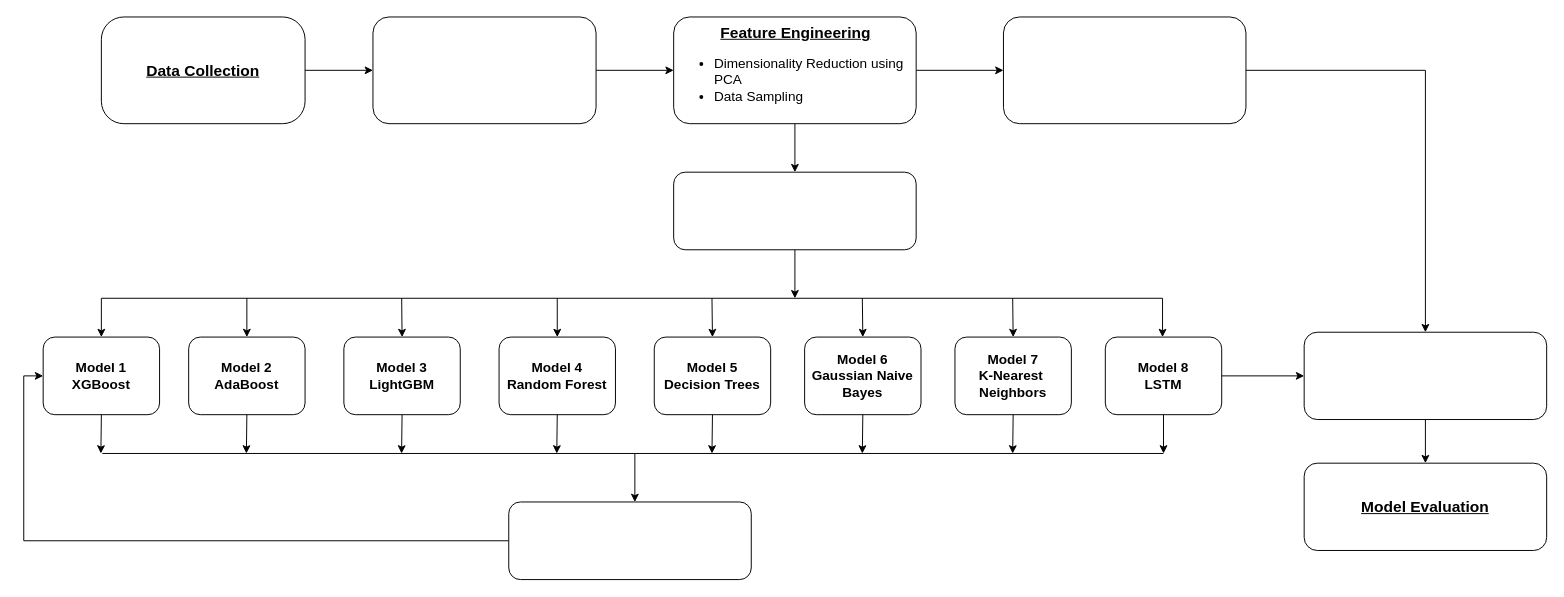
The diagram is 1564 pixels wide and 597 high, and some of its shapes have lost their labels. Here are the shapes that lost their labels. From the top down, the centre of each, then its label:
At point (484, 70): "Data Preprocessing Label Encoding Standard Scaling".
At point (1124, 70): "Testing Data Random samples consisting of 25% data values".
At point (794, 210): "Training Data Random samples consisting of 75% data values".
At point (1425, 375): "Trained Models".
At point (629, 540): "Hyperparameter Tuning".
